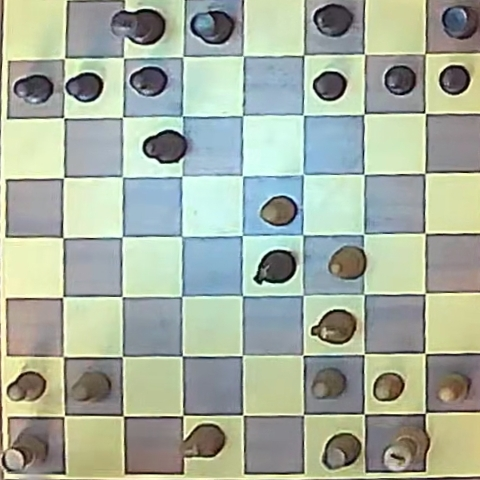black-bishop: (143, 130, 186, 163), (313, 4, 353, 37)
black-king: (112, 8, 164, 45)
black-knight: (254, 249, 296, 285)
black-pawn: (13, 74, 54, 104), (66, 72, 104, 102), (129, 66, 167, 96), (384, 65, 416, 95), (313, 71, 346, 100), (439, 65, 470, 95)
black-rook: (190, 10, 234, 45), (441, 5, 478, 39)
white-bishop: (328, 246, 367, 280)
white-king: (382, 425, 430, 473)
white-knight: (311, 310, 356, 345), (182, 424, 225, 458)
white-pawn: (6, 371, 46, 402), (71, 371, 110, 402), (260, 196, 297, 226), (311, 368, 345, 399), (437, 374, 469, 403), (373, 373, 404, 401)
white-rook: (3, 434, 47, 471), (323, 433, 361, 470)
